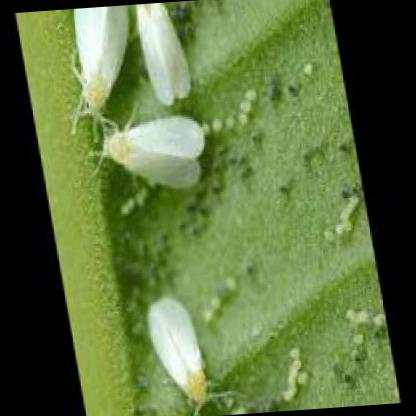whitefly: (109, 118, 205, 187), (148, 300, 209, 401)
